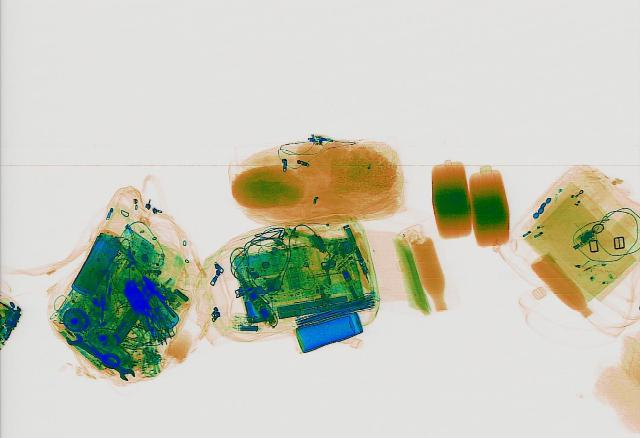Wrench: (60, 328, 140, 382)
